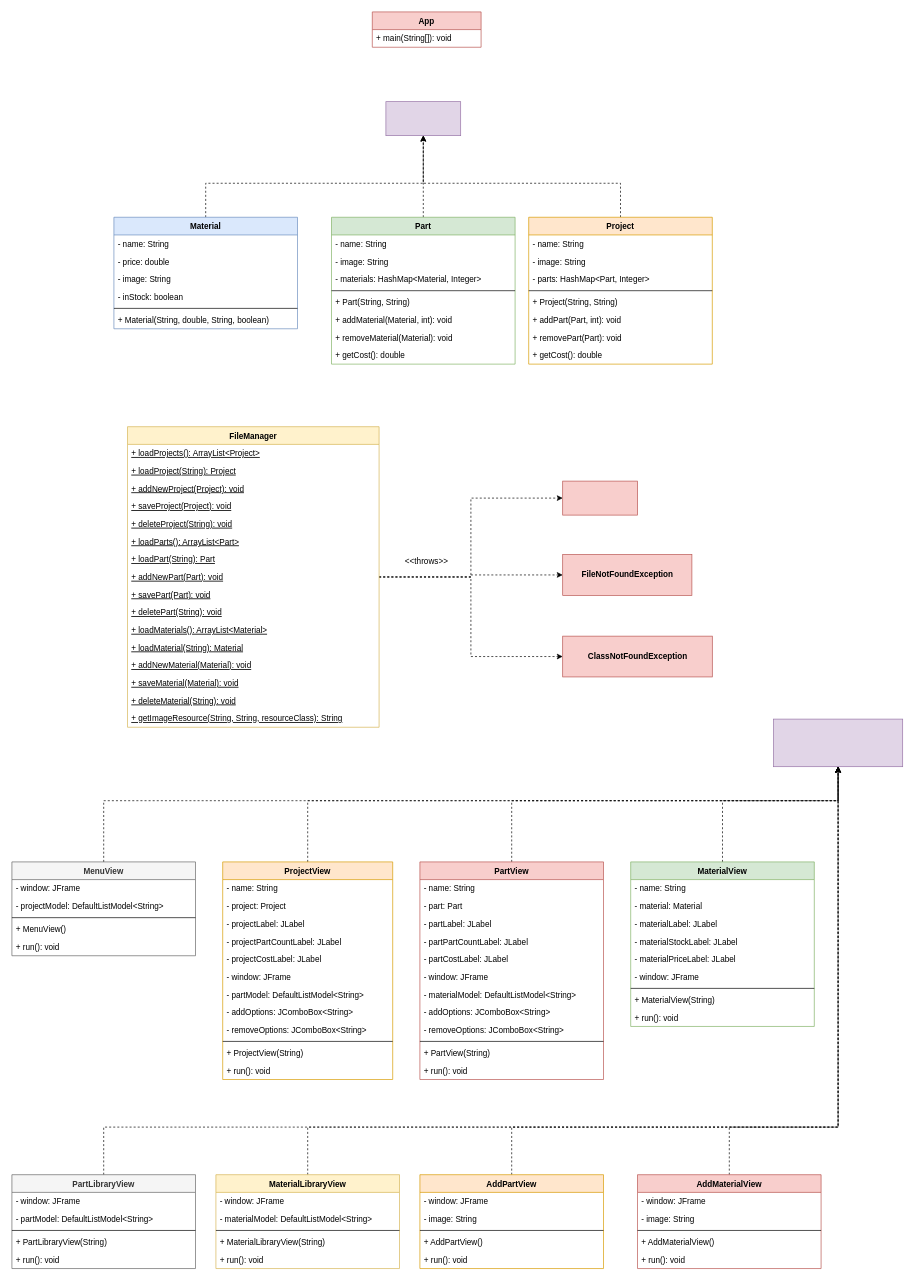
Image size: 915x1282. Some labels were removed from this diagram. The shapes that lost their labels are listed below. From the top down, each one's centre as x and y in pixels, then its label:
At point 423,118: "«interface» Serializable".
At point 600,497: "IOException".
At point 838,742: "<<Interface>> View + run(): void".
